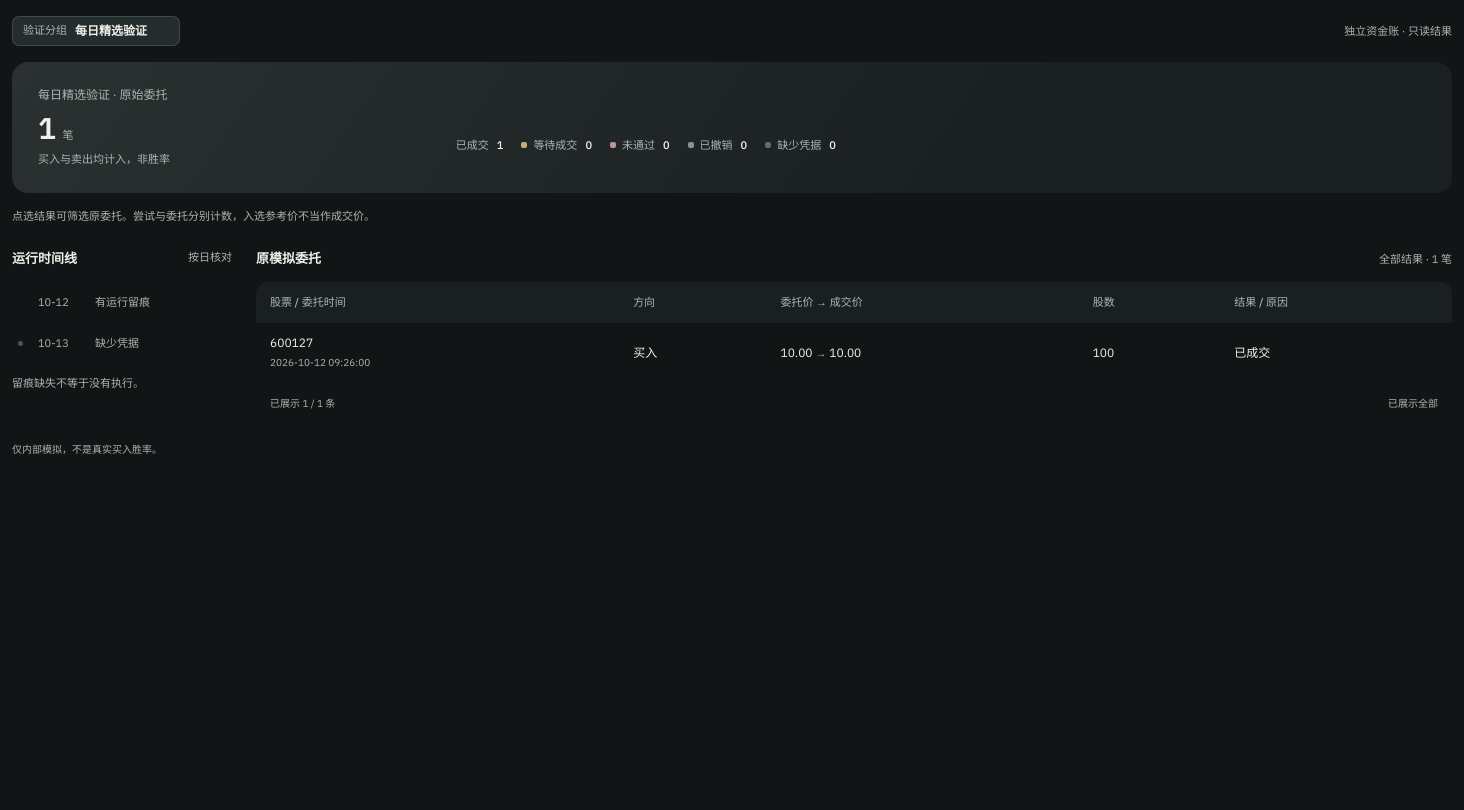
Scenario: internal execution consolidation › shows existing fills and unknown run evidence without trading actions
Click the button "600127 2026-10-12 09:26:00".
click(320, 352)  # box left=270, top=335, right=370, bottom=370
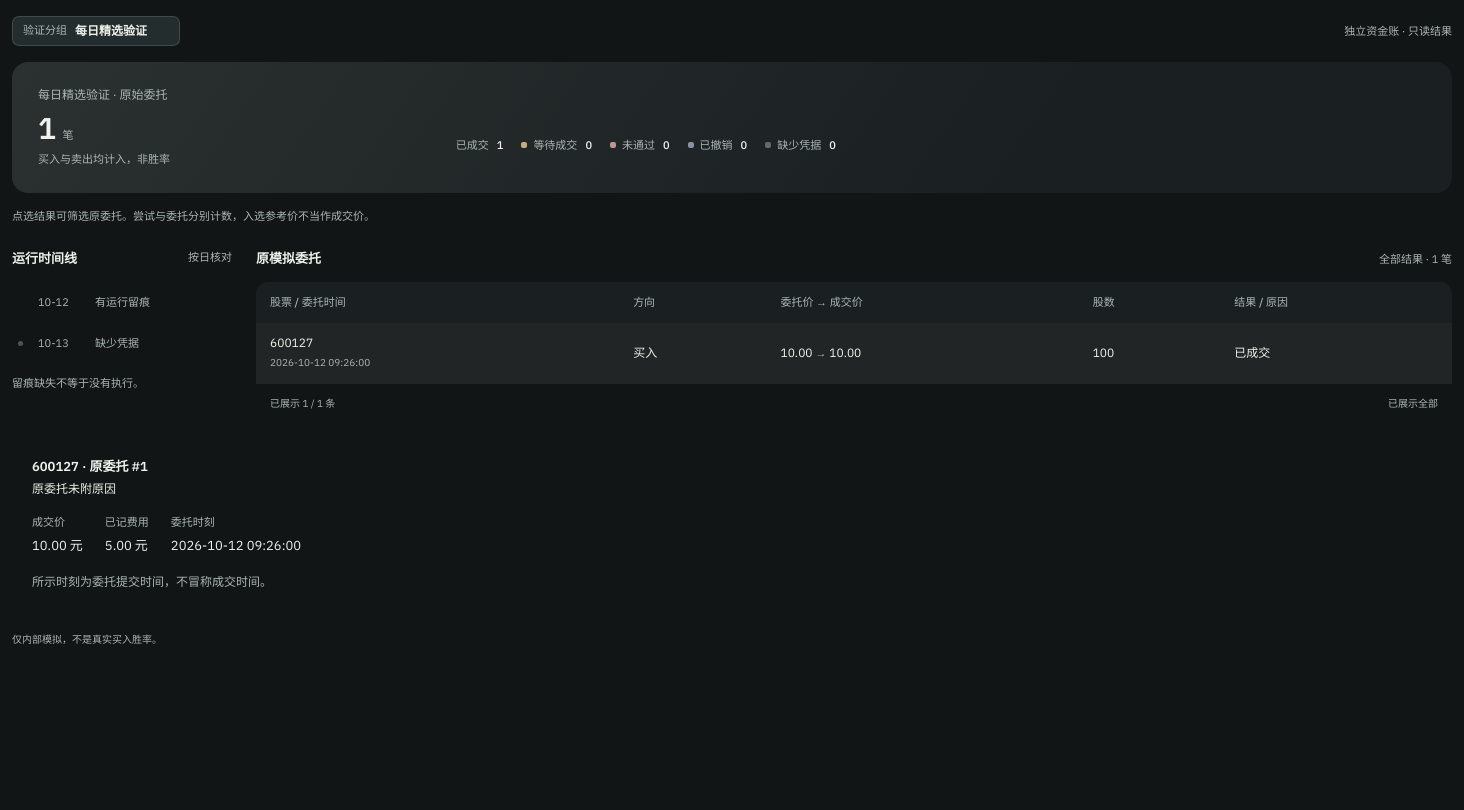
Result: the text "5.00 元" is shown at left=105, top=536, right=149, bottom=556
Click the button "10-13 缺少凭据".
click(119, 343)  # box left=12, top=323, right=226, bottom=364
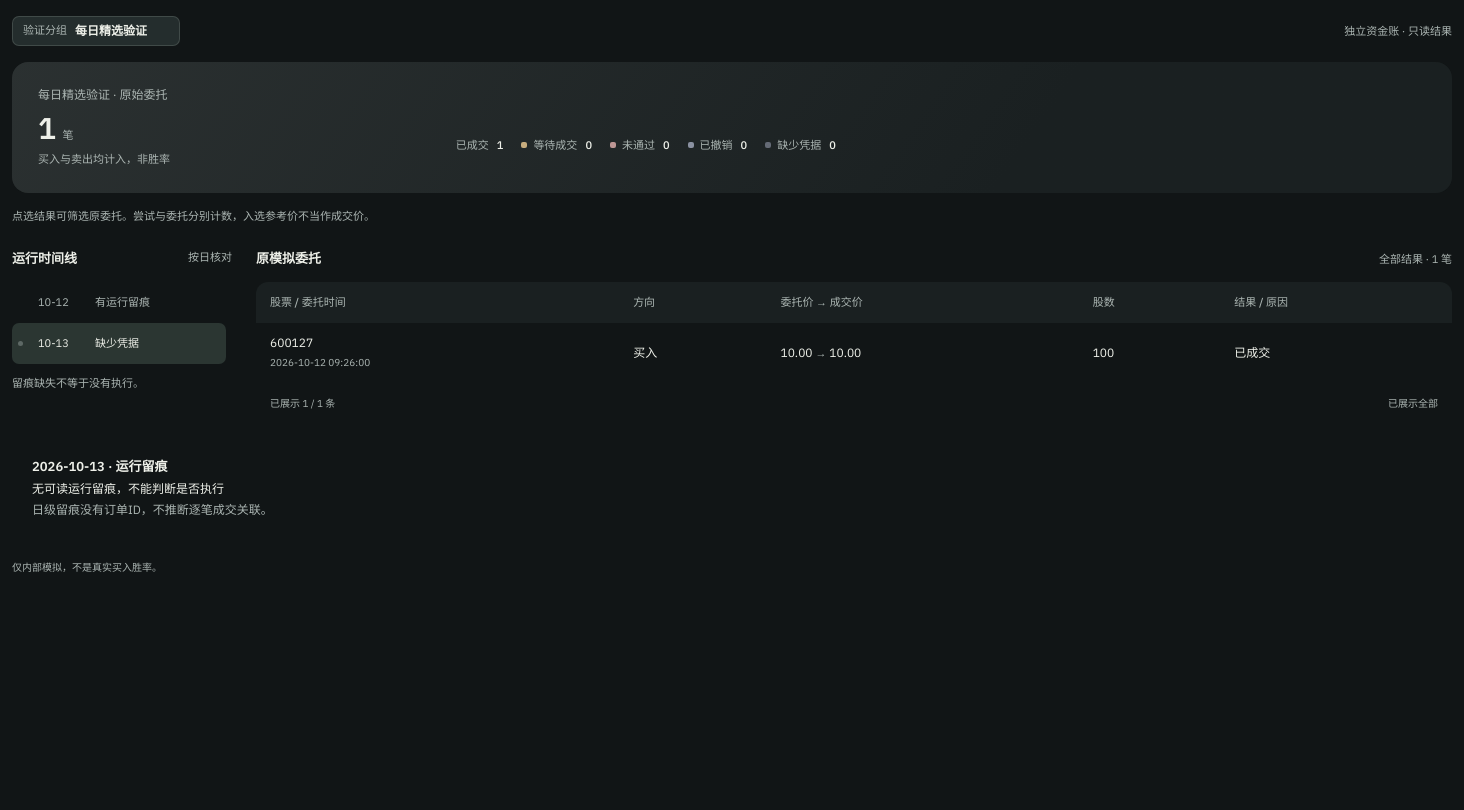
Result: the text "无可读运行留痕，不能判断是否执行" is shown at left=32, top=481, right=224, bottom=496
